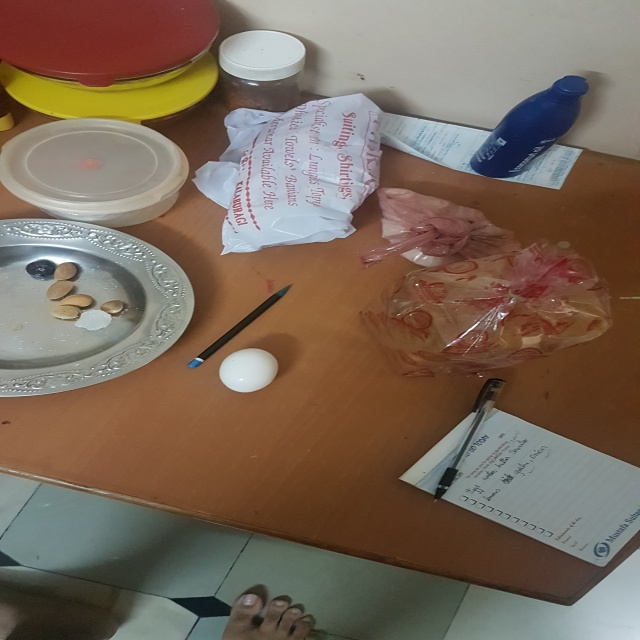eggs: (220, 346, 278, 395)
